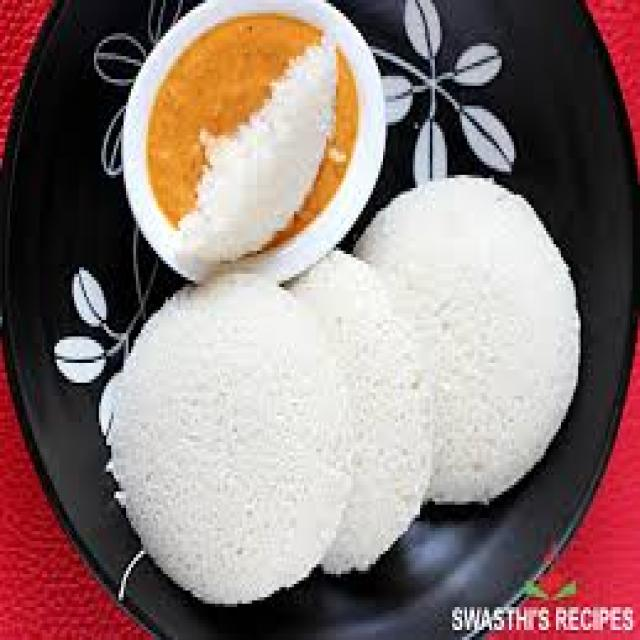idli: (109, 270, 346, 600), (346, 162, 576, 475), (242, 244, 433, 568), (168, 16, 341, 248)
